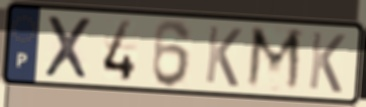4: (99, 17, 138, 83)
6: (150, 17, 193, 91)
K: (203, 23, 245, 90), (306, 29, 348, 96)
M: (243, 23, 306, 95)
X: (42, 13, 94, 82)
